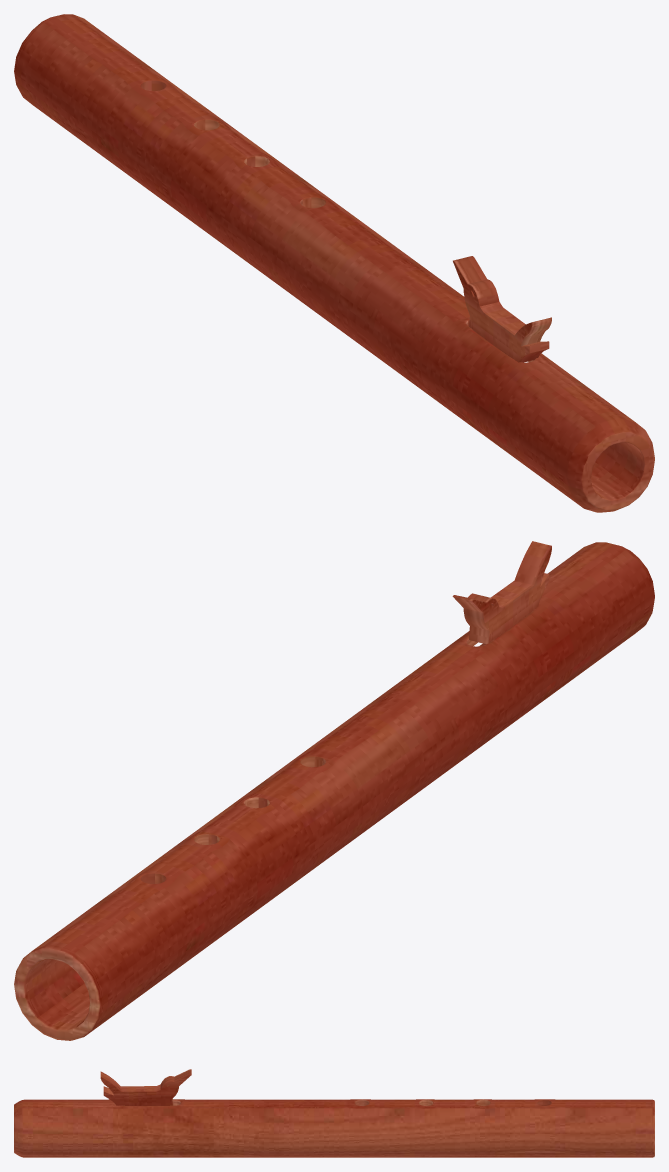
The model's file is instrument-flute.glb.
3 renders of one model, top to bottom at view 1: azimuth 30°, elevation 25°; view 2: azimuth 150°, elevation 25°; view 3: azimuth 270°, elevation 25°, orthographic. The views are drawn at different scales.
Visible parts, largest first — view 1: instrument_flute (×2); view 2: instrument_flute (×2); view 3: instrument_flute (×2).
Part boxes in pixels (x1,y1,x2,y2): instrument_flute (×2): (14, 14, 654, 512); instrument_flute (×2): (14, 541, 654, 1040); instrument_flute (×2): (14, 1069, 654, 1157).
Bounding box in the file's own units: 0.1434 × 0.2274 × 1.59.
Materials: 2 (2 with a texture image).
